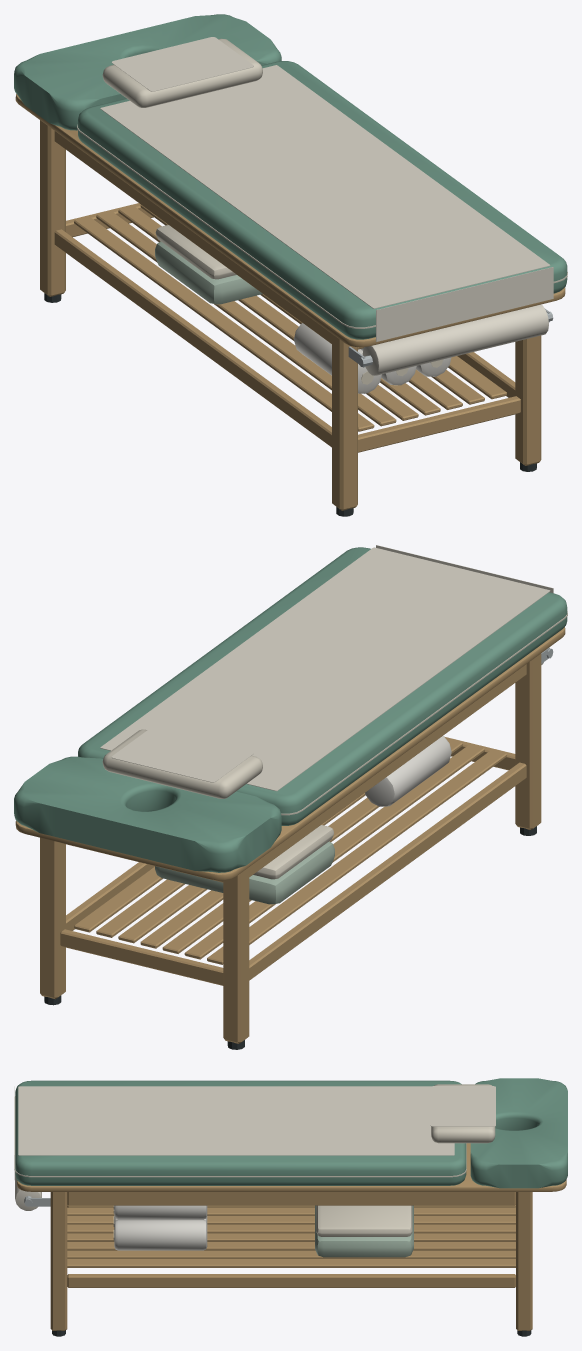
File: acu-treatment-couch.glb
3 renders of one model, top to bottom at view 1: azimuth 30°, elevation 25°; view 2: azimuth 150°, elevation 25°; view 3: azimuth 270°, elevation 25°, orthographic. The views are drawn at different scales.
Parts seen in each view (by area): view 1: acu-treatment-couch; view 2: acu-treatment-couch; view 3: acu-treatment-couch.
Part boxes in pixels (<box>): acu-treatment-couch: <box>14,14,567,516</box>; acu-treatment-couch: <box>14,545,567,1049</box>; acu-treatment-couch: <box>14,1078,567,1336</box>.
Bounding box in the file's own units: 0.704 × 0.7277 × 1.9.
